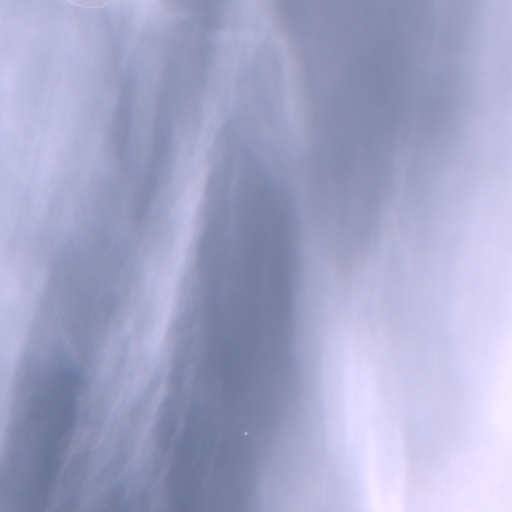Iceberg: (244, 432, 246, 434)
